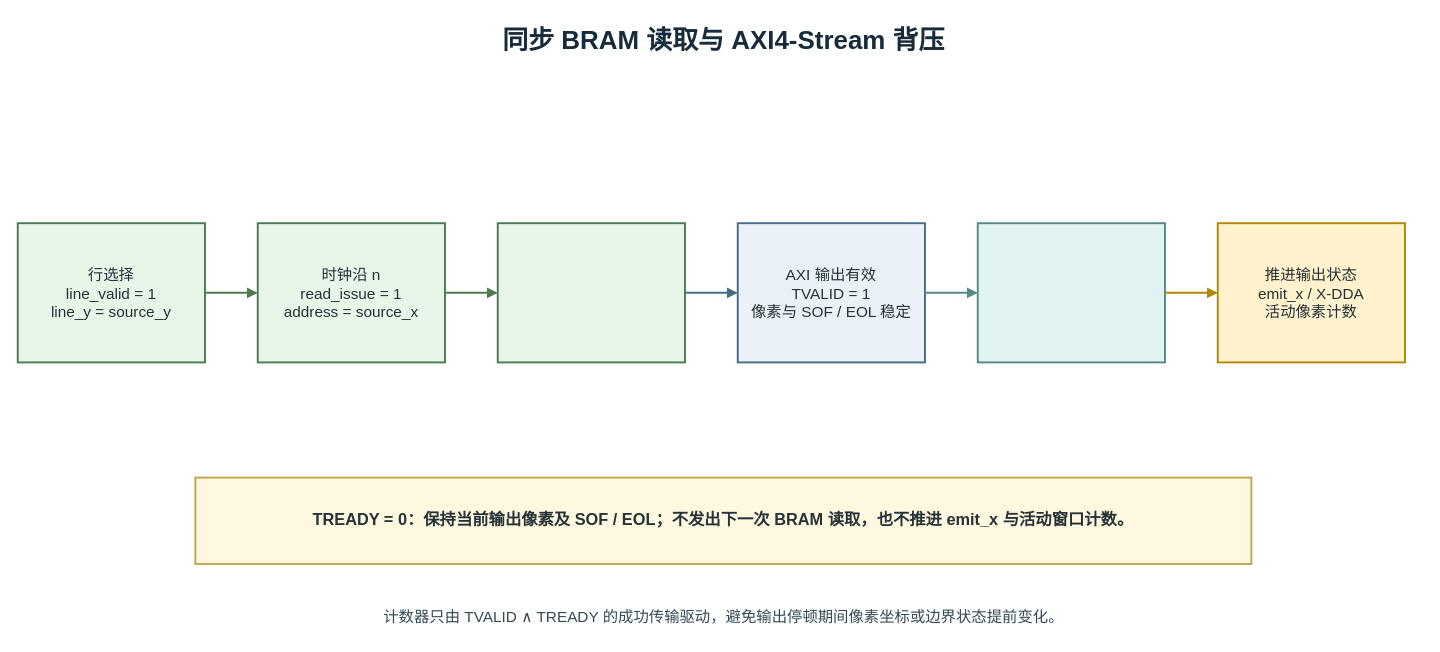
Some shapes in this 1440 by 652 pixel diagram are drawn without their labels. Here are the shapes that lost their labels. From the top down, the centre of each, then its label:
point 590,292: 时钟沿 n+1 BRAM 更新 read_data read_valid = 1
point 1070,292: 下游接受 TREADY = 1 握手完成
